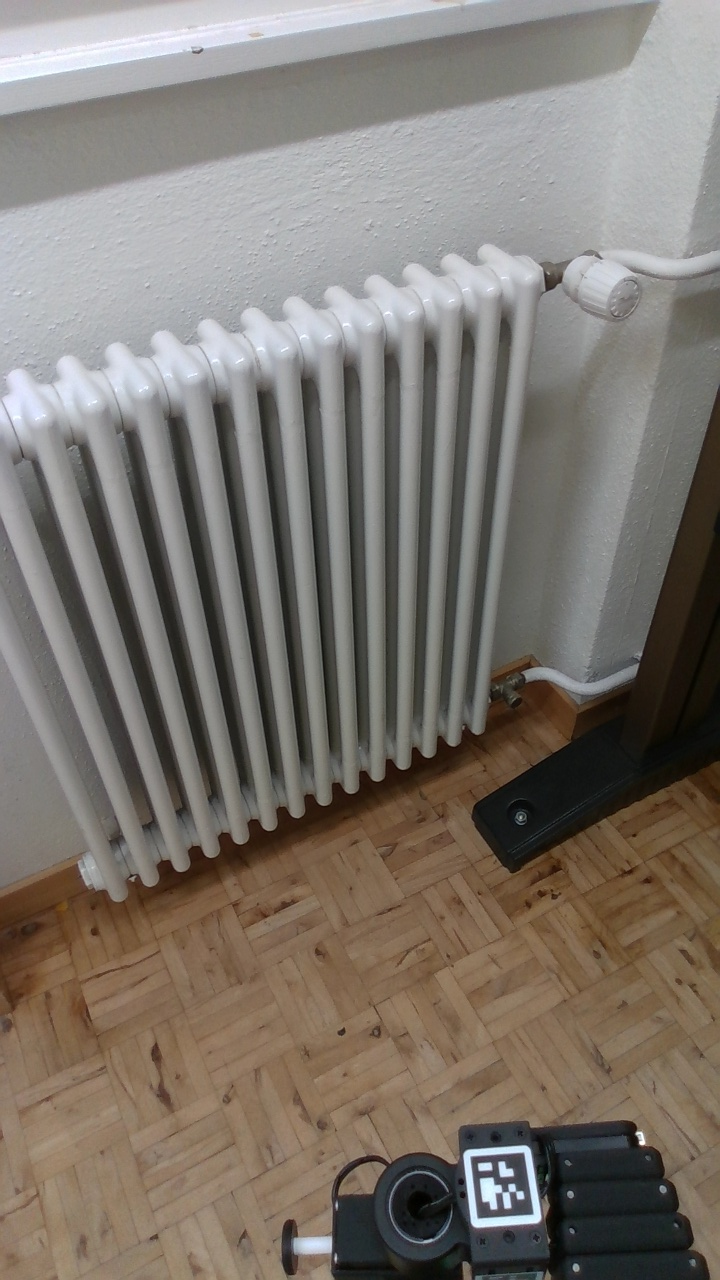Knob_Radiator: (536, 235, 647, 330)
Radiator: (1, 223, 566, 910)
